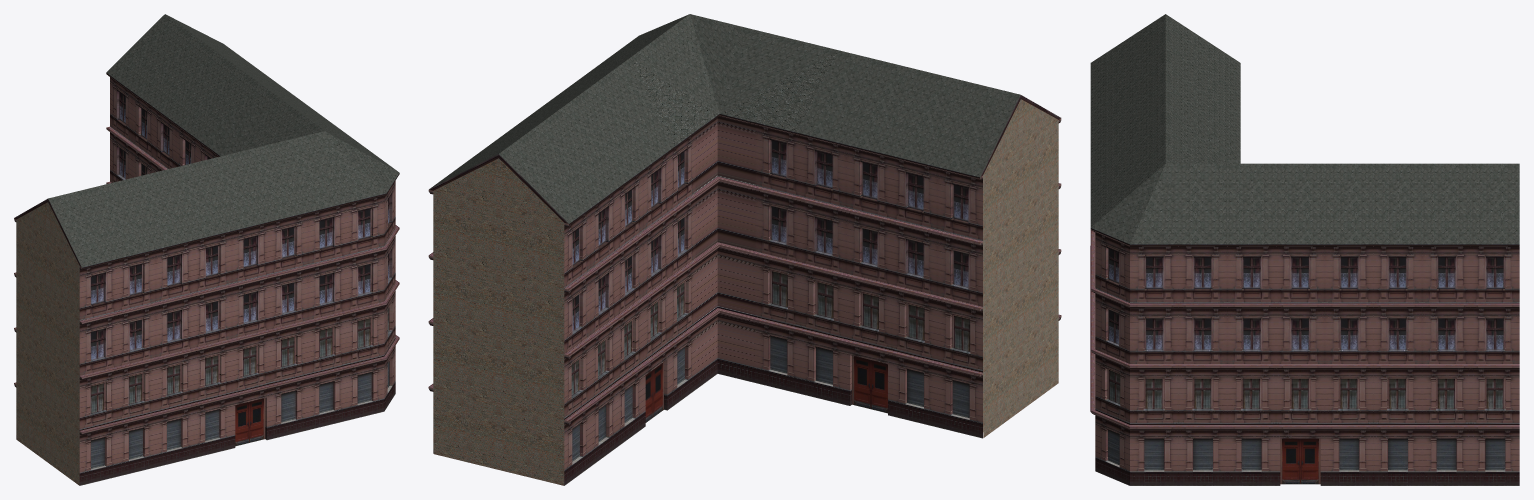
File: PBP1_Corner2_2sided.fbx
3 views of the same model, side by side, from view 1: azimuth 30°, elevation 25°; view 2: azimuth 150°, elevation 25°; view 3: azimuth 270°, elevation 25° (orthographic). The views are drawn at different scales.
Parts seen in each view (by area): view 1: PBP1_Corner2_2sided; view 2: PBP1_Corner2_2sided; view 3: PBP1_Corner2_2sided.
Part boxes in pixels (bbox=[...]): PBP1_Corner2_2sided: bbox=[14, 14, 399, 485]; PBP1_Corner2_2sided: bbox=[428, 14, 1061, 485]; PBP1_Corner2_2sided: bbox=[1090, 14, 1519, 485].
Size of the model in its own units: 2139 by 2138 by 1609.
